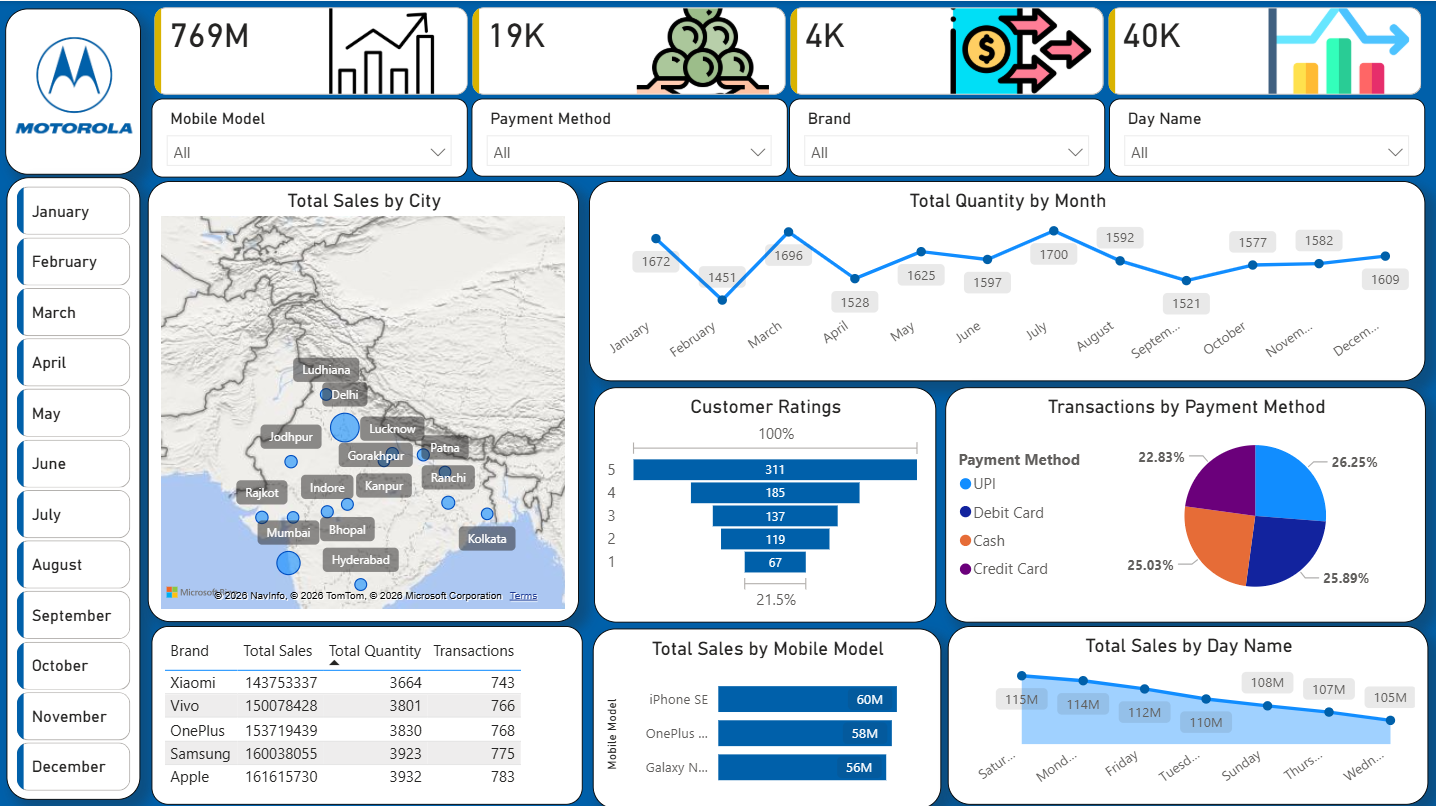

What the dashboard file says about the page in this screenshot:
{"tool":"powerbi","page":{"name":"Page 1","canvas":[1280,720],"ordinal":0},"visuals":[{"type":"shape","box":[5.5,6.9,120.8,148.2],"z":0},{"type":"image","box":[9.6,16.5,113.9,116.6],"z":1000},{"type":"shape","box":[6.9,156.4,119.4,554.4],"z":2000},{"type":"advancedSlicerVisual","fields":{"Values":["Sales_Data.Date.Variation.Date Hierarchy.Month"]},"box":[11,160.5,111.1,548.9],"z":3000},{"type":"cardVisual","fields":{"Data":["Sales_Data.Total Sales","Sales_Data.Total Quantity","Sales_Data.Transactions","Sales_Data.Average"]},"box":[134,5.6,1140.1,83.7],"z":4000},{"type":"map","fields":{"Category":["Sales_Data.City"],"Size":["Sales_Data.Total Sales"]},"box":[132.9,160.8,384.1,393.1],"z":5000},{"type":"lineChart","fields":{"Y":["Sales_Data.Total Quantity"],"Category":["Sales_Data.Date.Variation.Date Hierarchy.Month","Sales_Data.Date.Variation.Date Hierarchy.Day"]},"box":[525.9,160.8,744.8,178.7],"z":6000},{"type":"clusteredBarChart","fields":{"Category":["Sales_Data.Mobile Model"],"Y":["Sales_Data.Total Sales"]},"box":[528.3,558.5,310.1,160.5],"z":7000},{"type":"pieChart","fields":{"Category":["Sales_Data.Payment Method"],"Y":["Sales_Data.Transactions"]},"box":[842.5,344.4,428.1,209.9],"z":8000},{"type":"funnel","title":"Customer Ratings","fields":{"Category":["Sales_Data.Customer Ratings"],"Y":["CountNonNull(Sales_Data.Customer Ratings)"]},"box":[529.7,344.4,304.6,209.9],"z":9000},{"type":"areaChart","fields":{"Category":["Sales_Data.Day Name"],"Y":["Sales_Data.Total Sales"]},"box":[845.3,557.1,428.1,159.2],"z":10000},{"type":"tableEx","fields":{"Values":["Sales_Data.Brand","Sales_Data.Total Sales","Sales_Data.Total Quantity","Sales_Data.Transactions"]},"box":[135.8,557.1,384.2,159.2],"z":11000},{"type":"slicer","fields":{"Values":["Sales_Data.Mobile Model"]},"box":[136.2,87.1,281.4,70.3],"z":12000},{"type":"slicer","fields":{"Values":["Sales_Data.Payment Method"]},"box":[421,87.1,281.4,69.2],"z":13000},{"type":"slicer","fields":{"Values":["Sales_Data.Brand"]},"box":[703.5,87.1,281.4,69.2],"z":14000},{"type":"slicer","fields":{"Values":["Sales_Data.Day Name"]},"box":[988.2,87.1,281.4,69.2],"z":15000}]}

Visuals, with their boxes in screenshot pixels (x1, y1, x2, y2), scaled from the page's 1280x720 canvas onto the 1436x806 screenshot:
shape: (6,8,142,174)
image: (11,18,139,149)
shape: (8,175,142,796)
advancedSlicerVisual - Sales_Data.Date.Variation.Date Hierarchy.Month: (12,180,137,794)
cardVisual - Sales_Data.Total Sales x Sales_Data.Total Quantity: (150,6,1429,100)
map - Sales_Data.City x Sales_Data.Total Sales: (149,180,580,620)
lineChart - Sales_Data.Total Quantity x Sales_Data.Date.Variation.Date Hierarchy.Month: (590,180,1426,380)
clusteredBarChart - Sales_Data.Mobile Model x Sales_Data.Total Sales: (593,625,941,805)
pieChart - Sales_Data.Payment Method x Sales_Data.Transactions: (945,386,1425,621)
"Customer Ratings" funnel: (594,386,936,621)
areaChart - Sales_Data.Day Name x Sales_Data.Total Sales: (948,624,1429,802)
tableEx - Sales_Data.Brand x Sales_Data.Total Sales: (152,624,583,802)
slicer - Sales_Data.Mobile Model: (153,98,468,176)
slicer - Sales_Data.Payment Method: (472,98,788,175)
slicer - Sales_Data.Brand: (789,98,1105,175)
slicer - Sales_Data.Day Name: (1109,98,1424,175)
